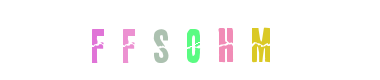F: (56, 0, 136, 80), (129, 0, 209, 80)
H: (153, 0, 233, 80)
M: (221, 0, 301, 80)
O: (149, 0, 229, 80)
S: (146, 0, 226, 80)
